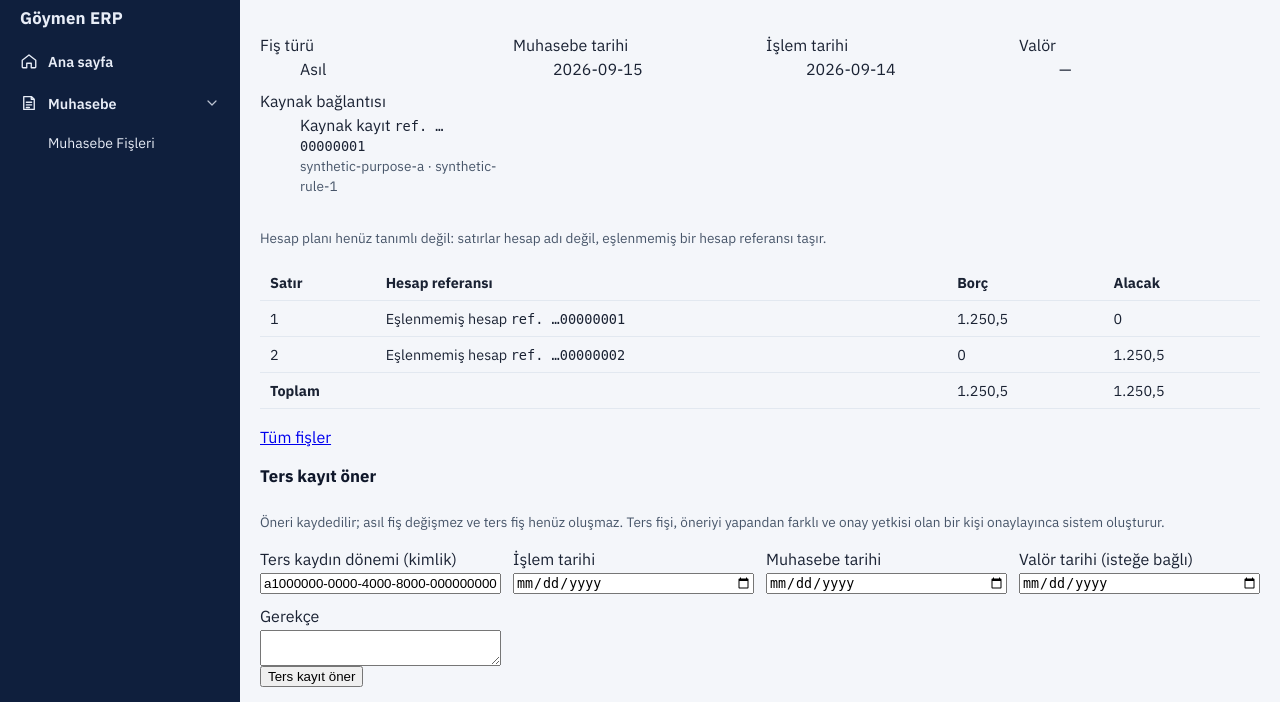
it: reversal proposal on the journal detail › after an UNKNOWN outcome re-sends only the same key and the same proposal
(page scrolled)
expect the heading "Ters kayıt öner" is shown: met, box top-left (260, 465), bottom-right (376, 487)
Type "2026-09-23" into the date field labelled "İşlem tarihi" at (634, 584), box top-left (513, 573), bottom-right (754, 594)
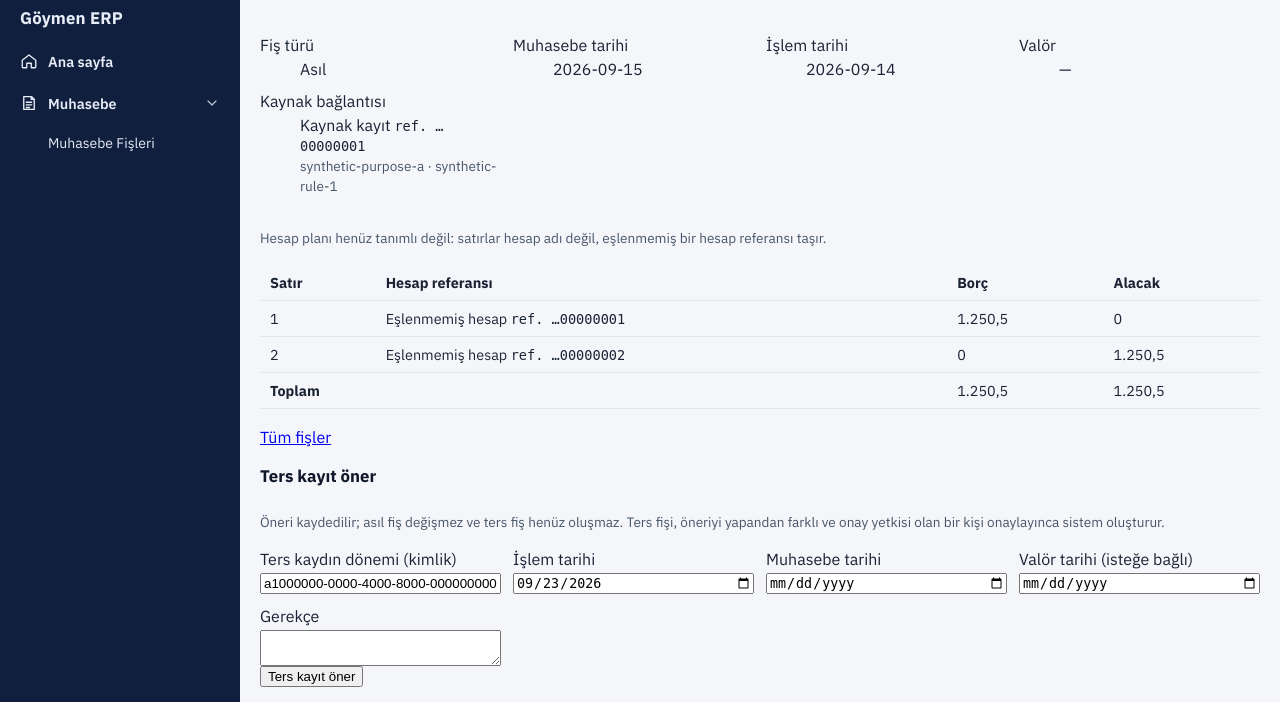
Type "2026-09-24" into the date field labelled "Muhasebe tarihi" at (886, 584), box top-left (766, 573), bottom-right (1007, 594)
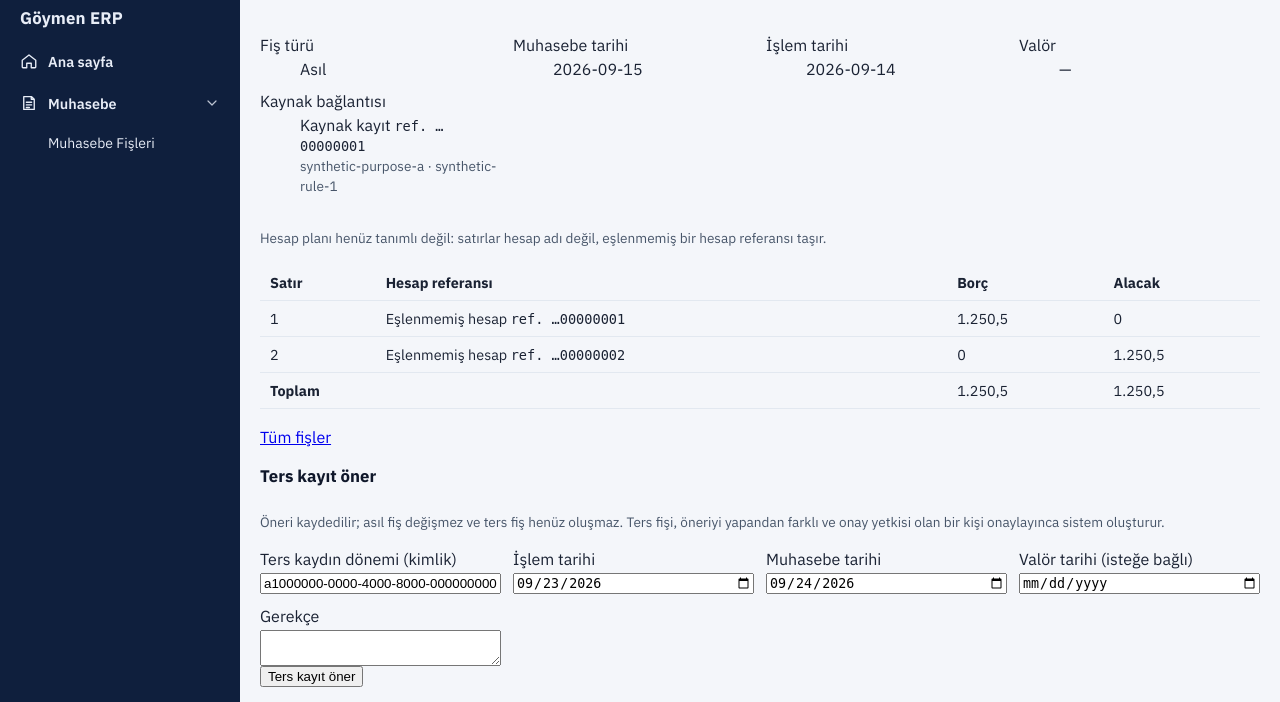
Type "SENTETIK gerekçe" into the text box labelled "Gerekçe" at (380, 648), box top-left (260, 630), bottom-right (501, 666)
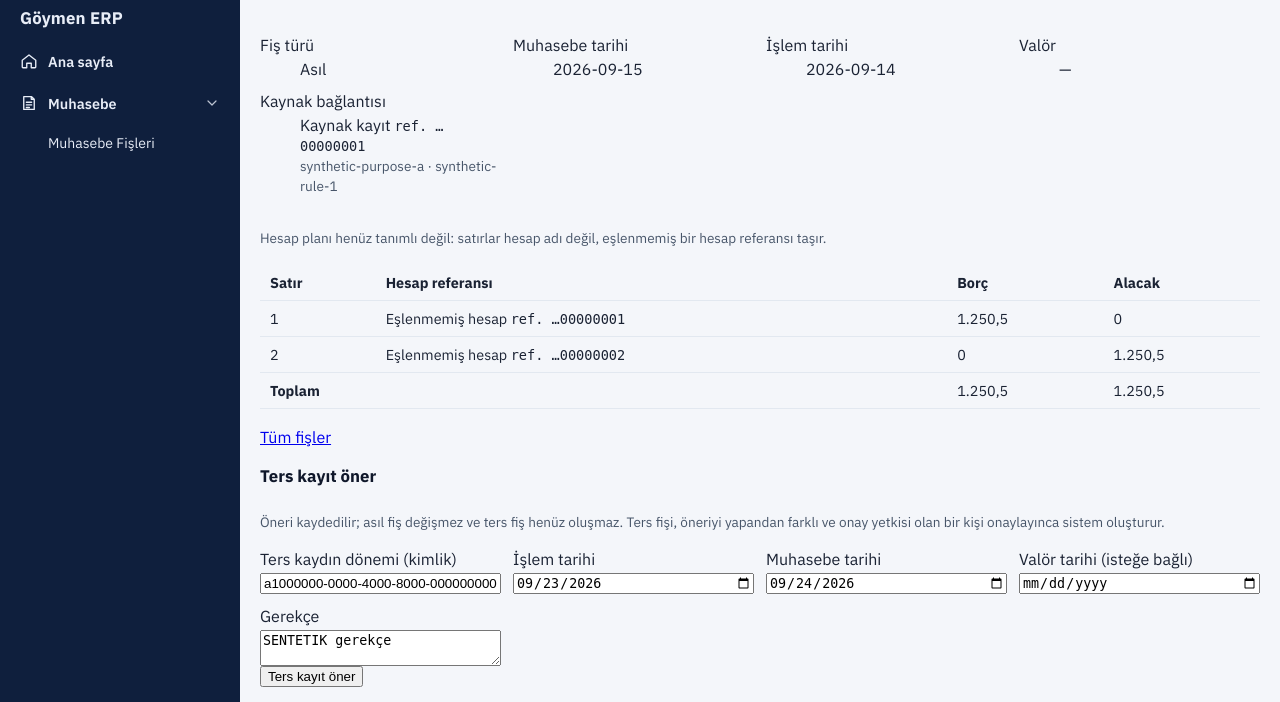
Click the button "Ters kayıt öner" at (312, 677), box top-left (260, 666), bottom-right (363, 687)
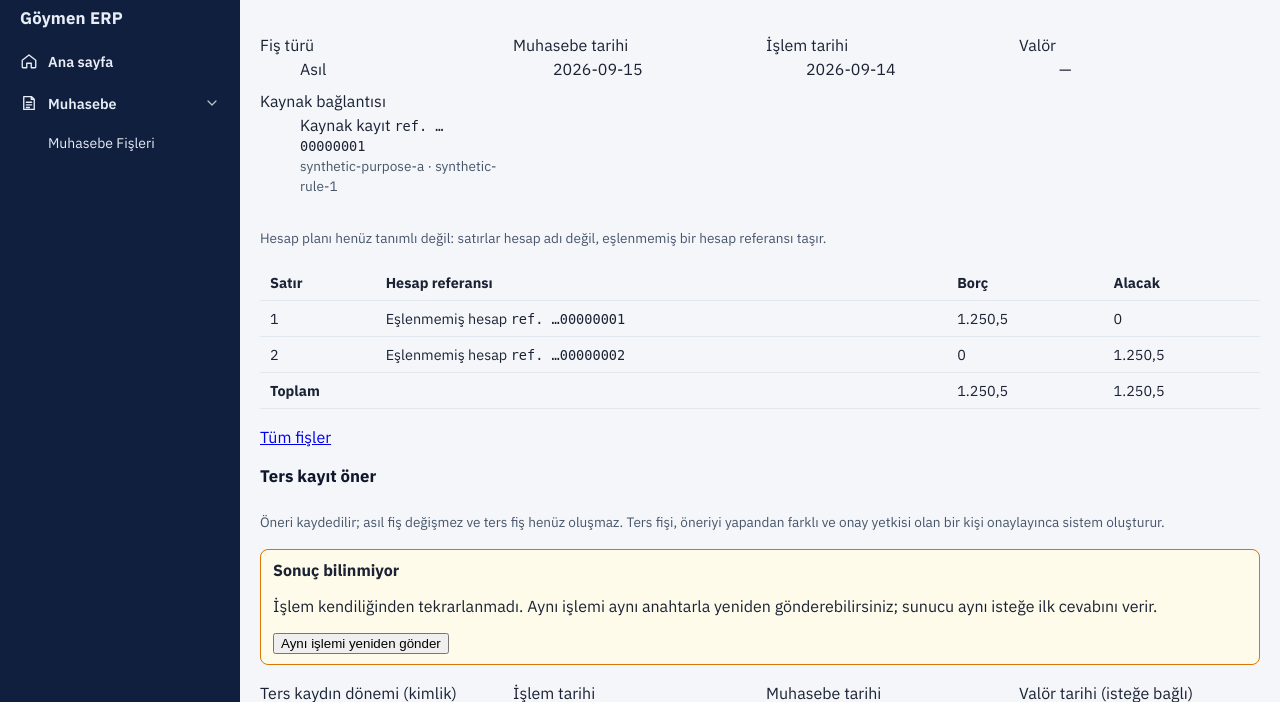
expect the text "Sonuç bilinmiyor" is shown: met, box top-left (273, 560), bottom-right (399, 580)
Click the button "Aynı işlemi yeniden gönder" at (361, 644), box top-left (273, 633), bottom-right (449, 654)
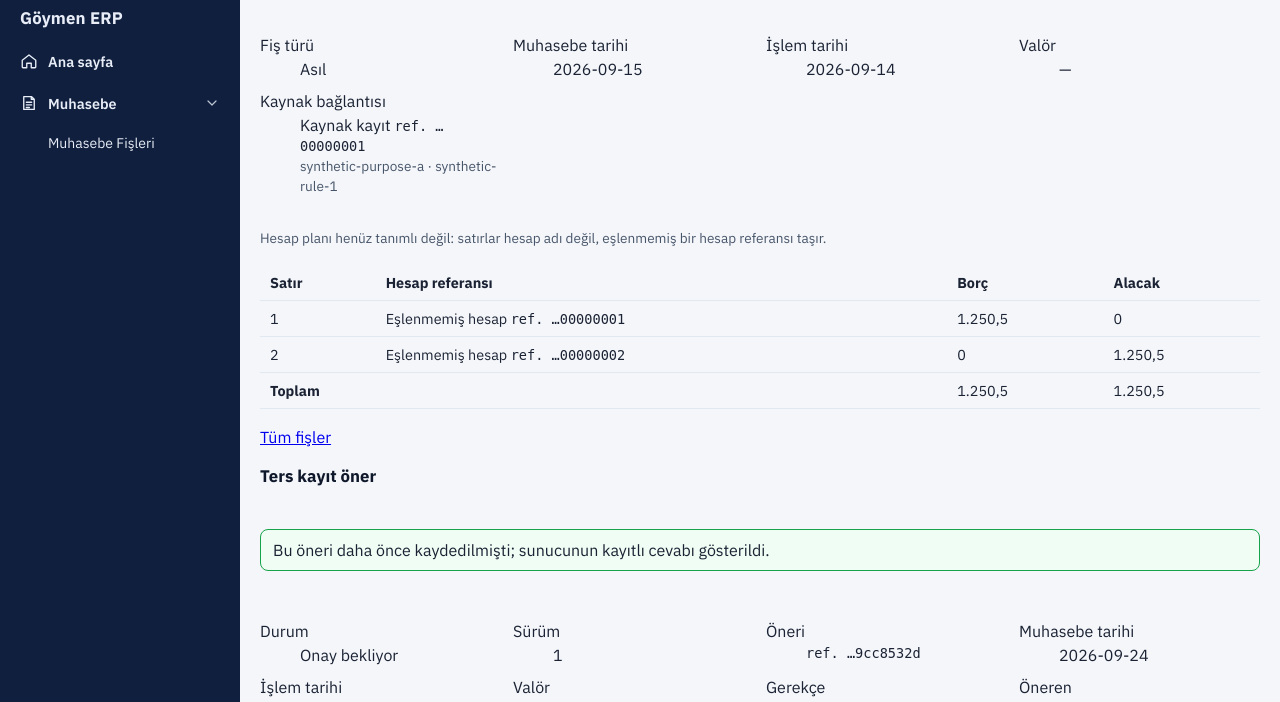
expect the text "Bu öneri daha önce kaydedilmişti; sunucunun kayıtlı cevabı gösterildi." is shown: met, box top-left (260, 529), bottom-right (1260, 571)
